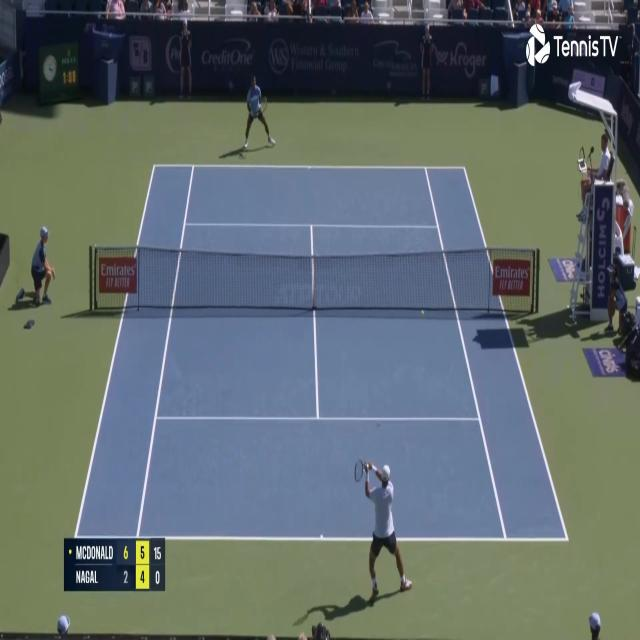tennis-player: (356, 458, 415, 603), (242, 70, 277, 153)
